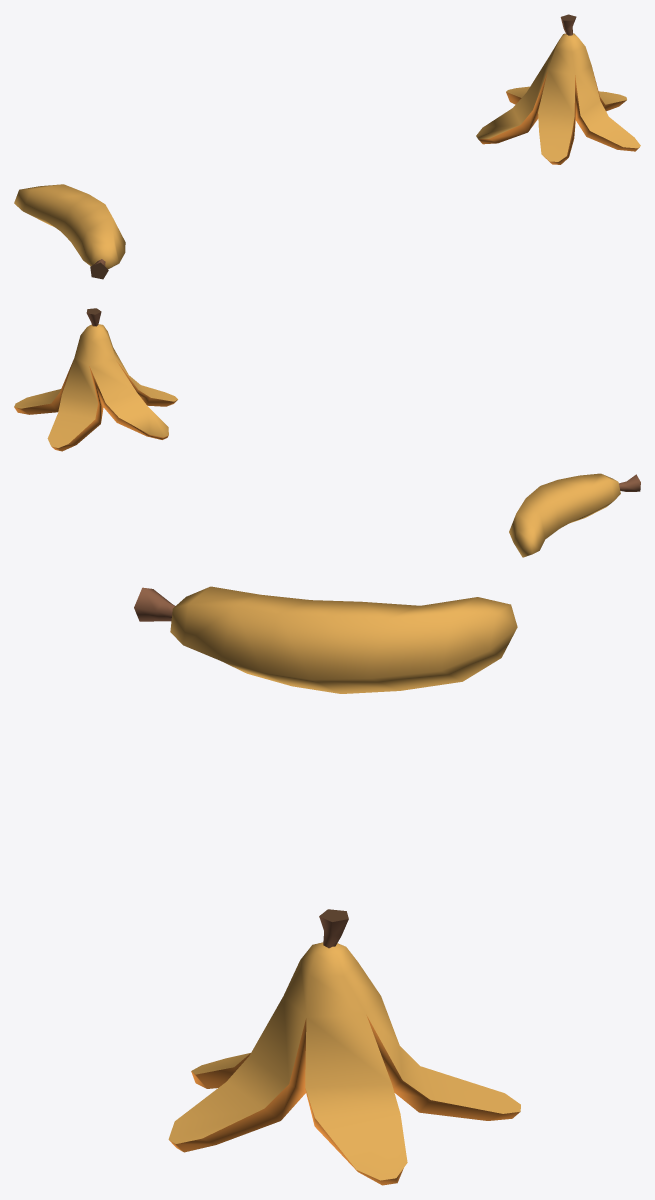
File: ClassicBanana.fbx
3 renders of one model, top to bottom at view 1: azimuth 30°, elevation 25°; view 2: azimuth 150°, elevation 25°; view 3: azimuth 270°, elevation 25°, orthographic. The views are drawn at different scales.
Visible parts, largest first — view 1: ClassicBananaPeel, ClassicBanana; view 2: ClassicBananaPeel, ClassicBanana; view 3: ClassicBananaPeel, ClassicBanana.
Part boxes in pixels (bbox=[...]): ClassicBananaPeel: bbox=[476, 14, 640, 164]; ClassicBanana: bbox=[14, 184, 125, 279]; ClassicBananaPeel: bbox=[14, 308, 177, 451]; ClassicBanana: bbox=[509, 473, 640, 557]; ClassicBananaPeel: bbox=[168, 909, 520, 1185]; ClassicBanana: bbox=[134, 586, 517, 693].
Bounding box in the file's own units: 1.25 × 0.2346 × 0.3698.
